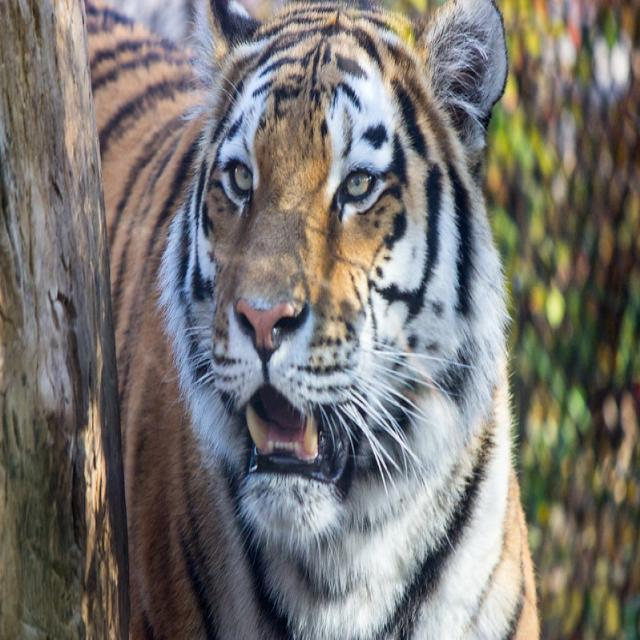Tiger: (80, 1, 538, 636)
